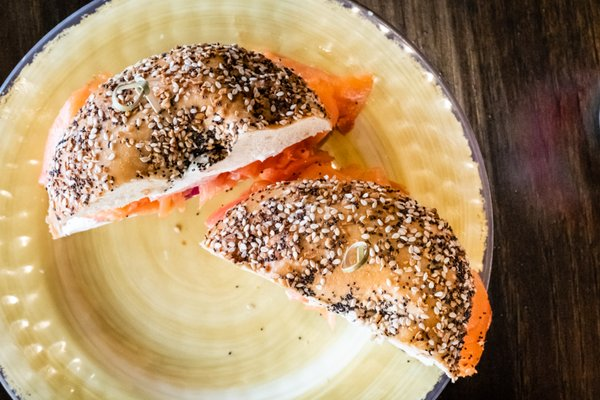curry: (11, 0, 599, 384)
